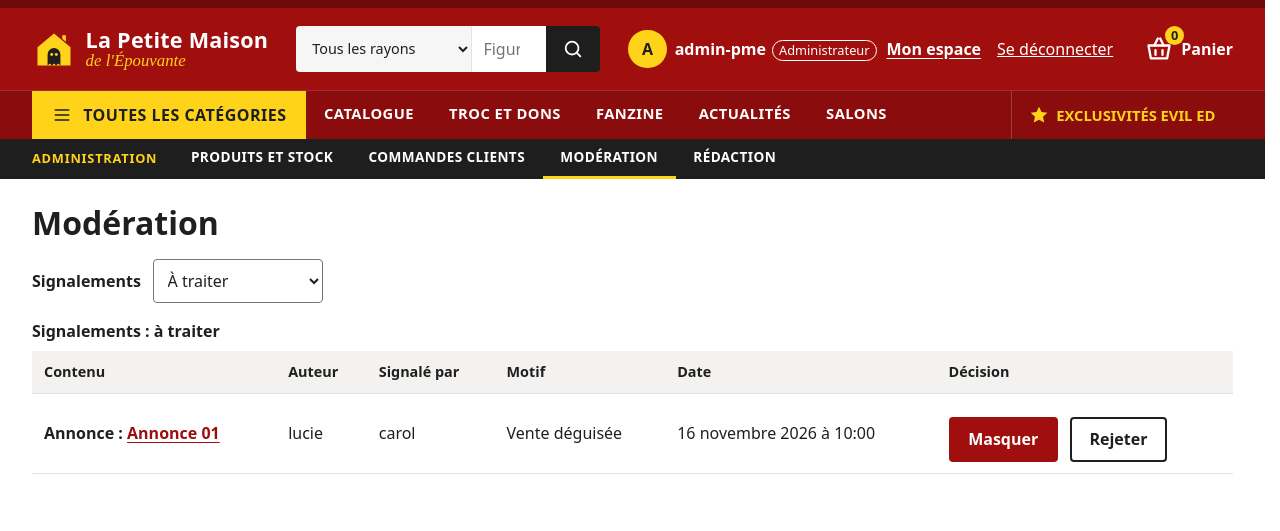
Test: Modération › rejette un signalement et affiche les signalements traités
(page scrolled)
Step 1. Click the button named "Rejeter le signalement de carol" → coordinates (1118, 439), box [1070, 416, 1167, 462]
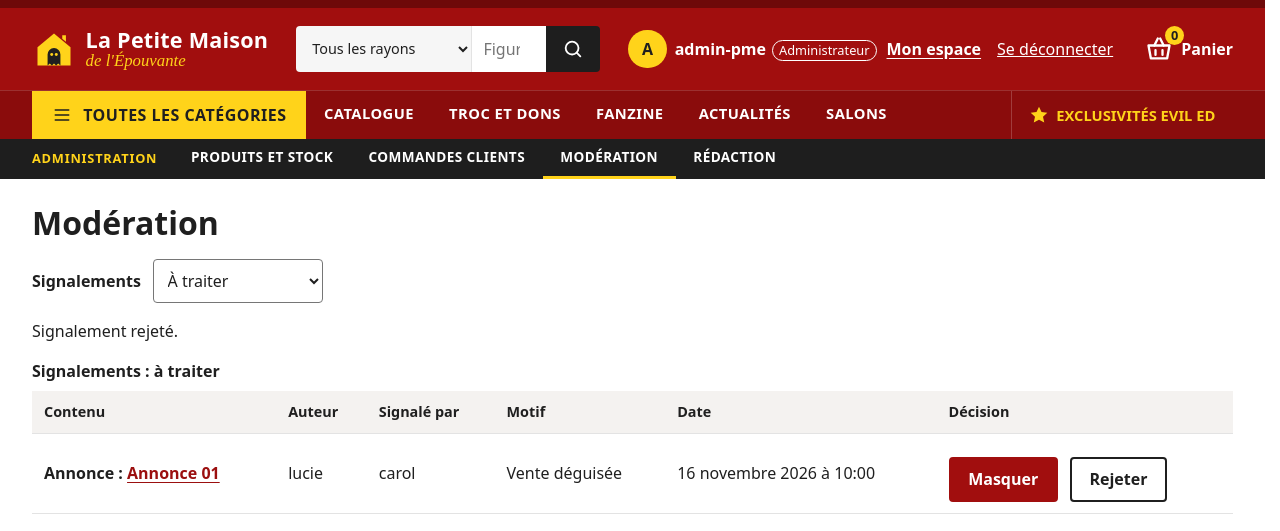
Expected: the text "Signalement rejeté." is shown, [32, 320, 178, 342]
Step 2. Select "Rejetés" in the dropdown labelled "Signalements" → coordinates (238, 281), box [153, 259, 323, 303]
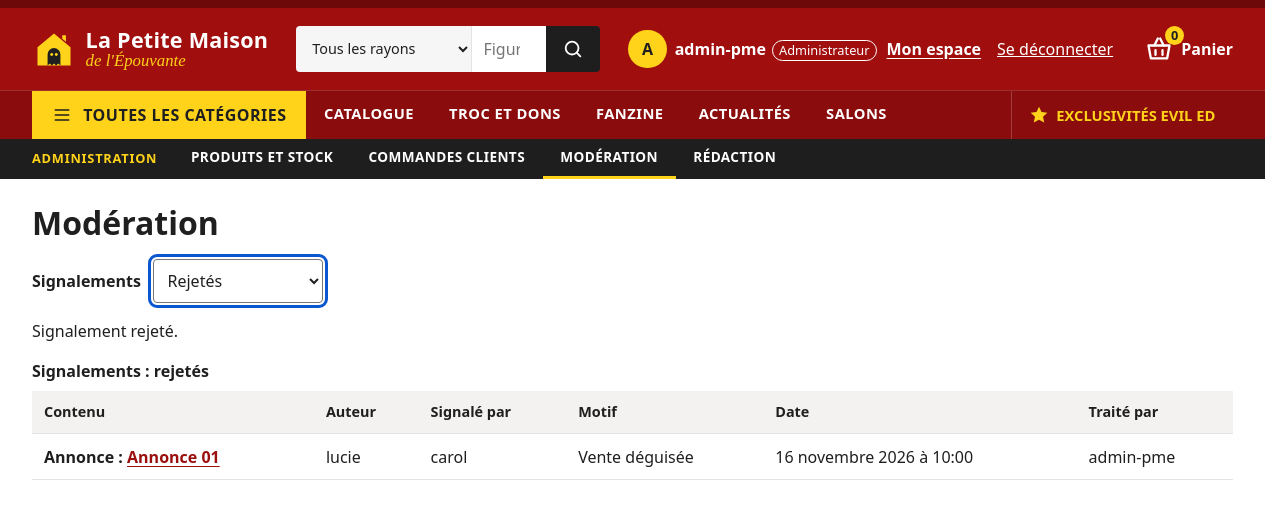
Expected: the text "admin-pme" is shown, [1077, 434, 1233, 479]
